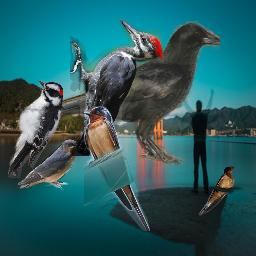Crow: (37, 21, 220, 165)
Swallow: (84, 106, 150, 231), (17, 139, 81, 191), (197, 165, 236, 216)
Woodpecker: (70, 19, 164, 156), (7, 79, 63, 178)
